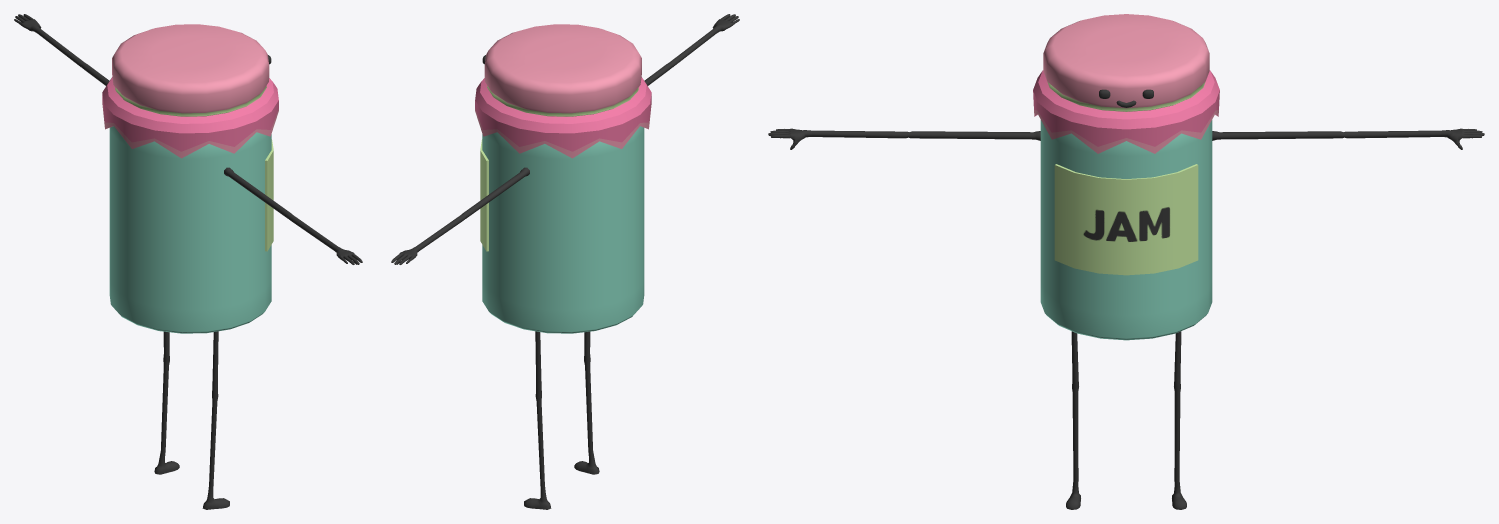
File: CoolJam.fbx
3 renders of one model, left to right at view 1: azimuth 30°, elevation 25°; view 2: azimuth 150°, elevation 25°; view 3: azimuth 270°, elevation 25°, orthographic. The views are drawn at different scales.
Parts seen in each view (by area): view 1: _100Avatars_127_CoolJam; view 2: _100Avatars_127_CoolJam; view 3: _100Avatars_127_CoolJam.
Boxes of the visible parts, box(x1,y1,x2,y2) form: _100Avatars_127_CoolJam: box(14, 14, 362, 509); _100Avatars_127_CoolJam: box(391, 14, 739, 509); _100Avatars_127_CoolJam: box(768, 14, 1484, 509).
Size of the model in its own units: 1.73 by 4.68 by 6.62.
Materials: 1 (1 with a texture image).
